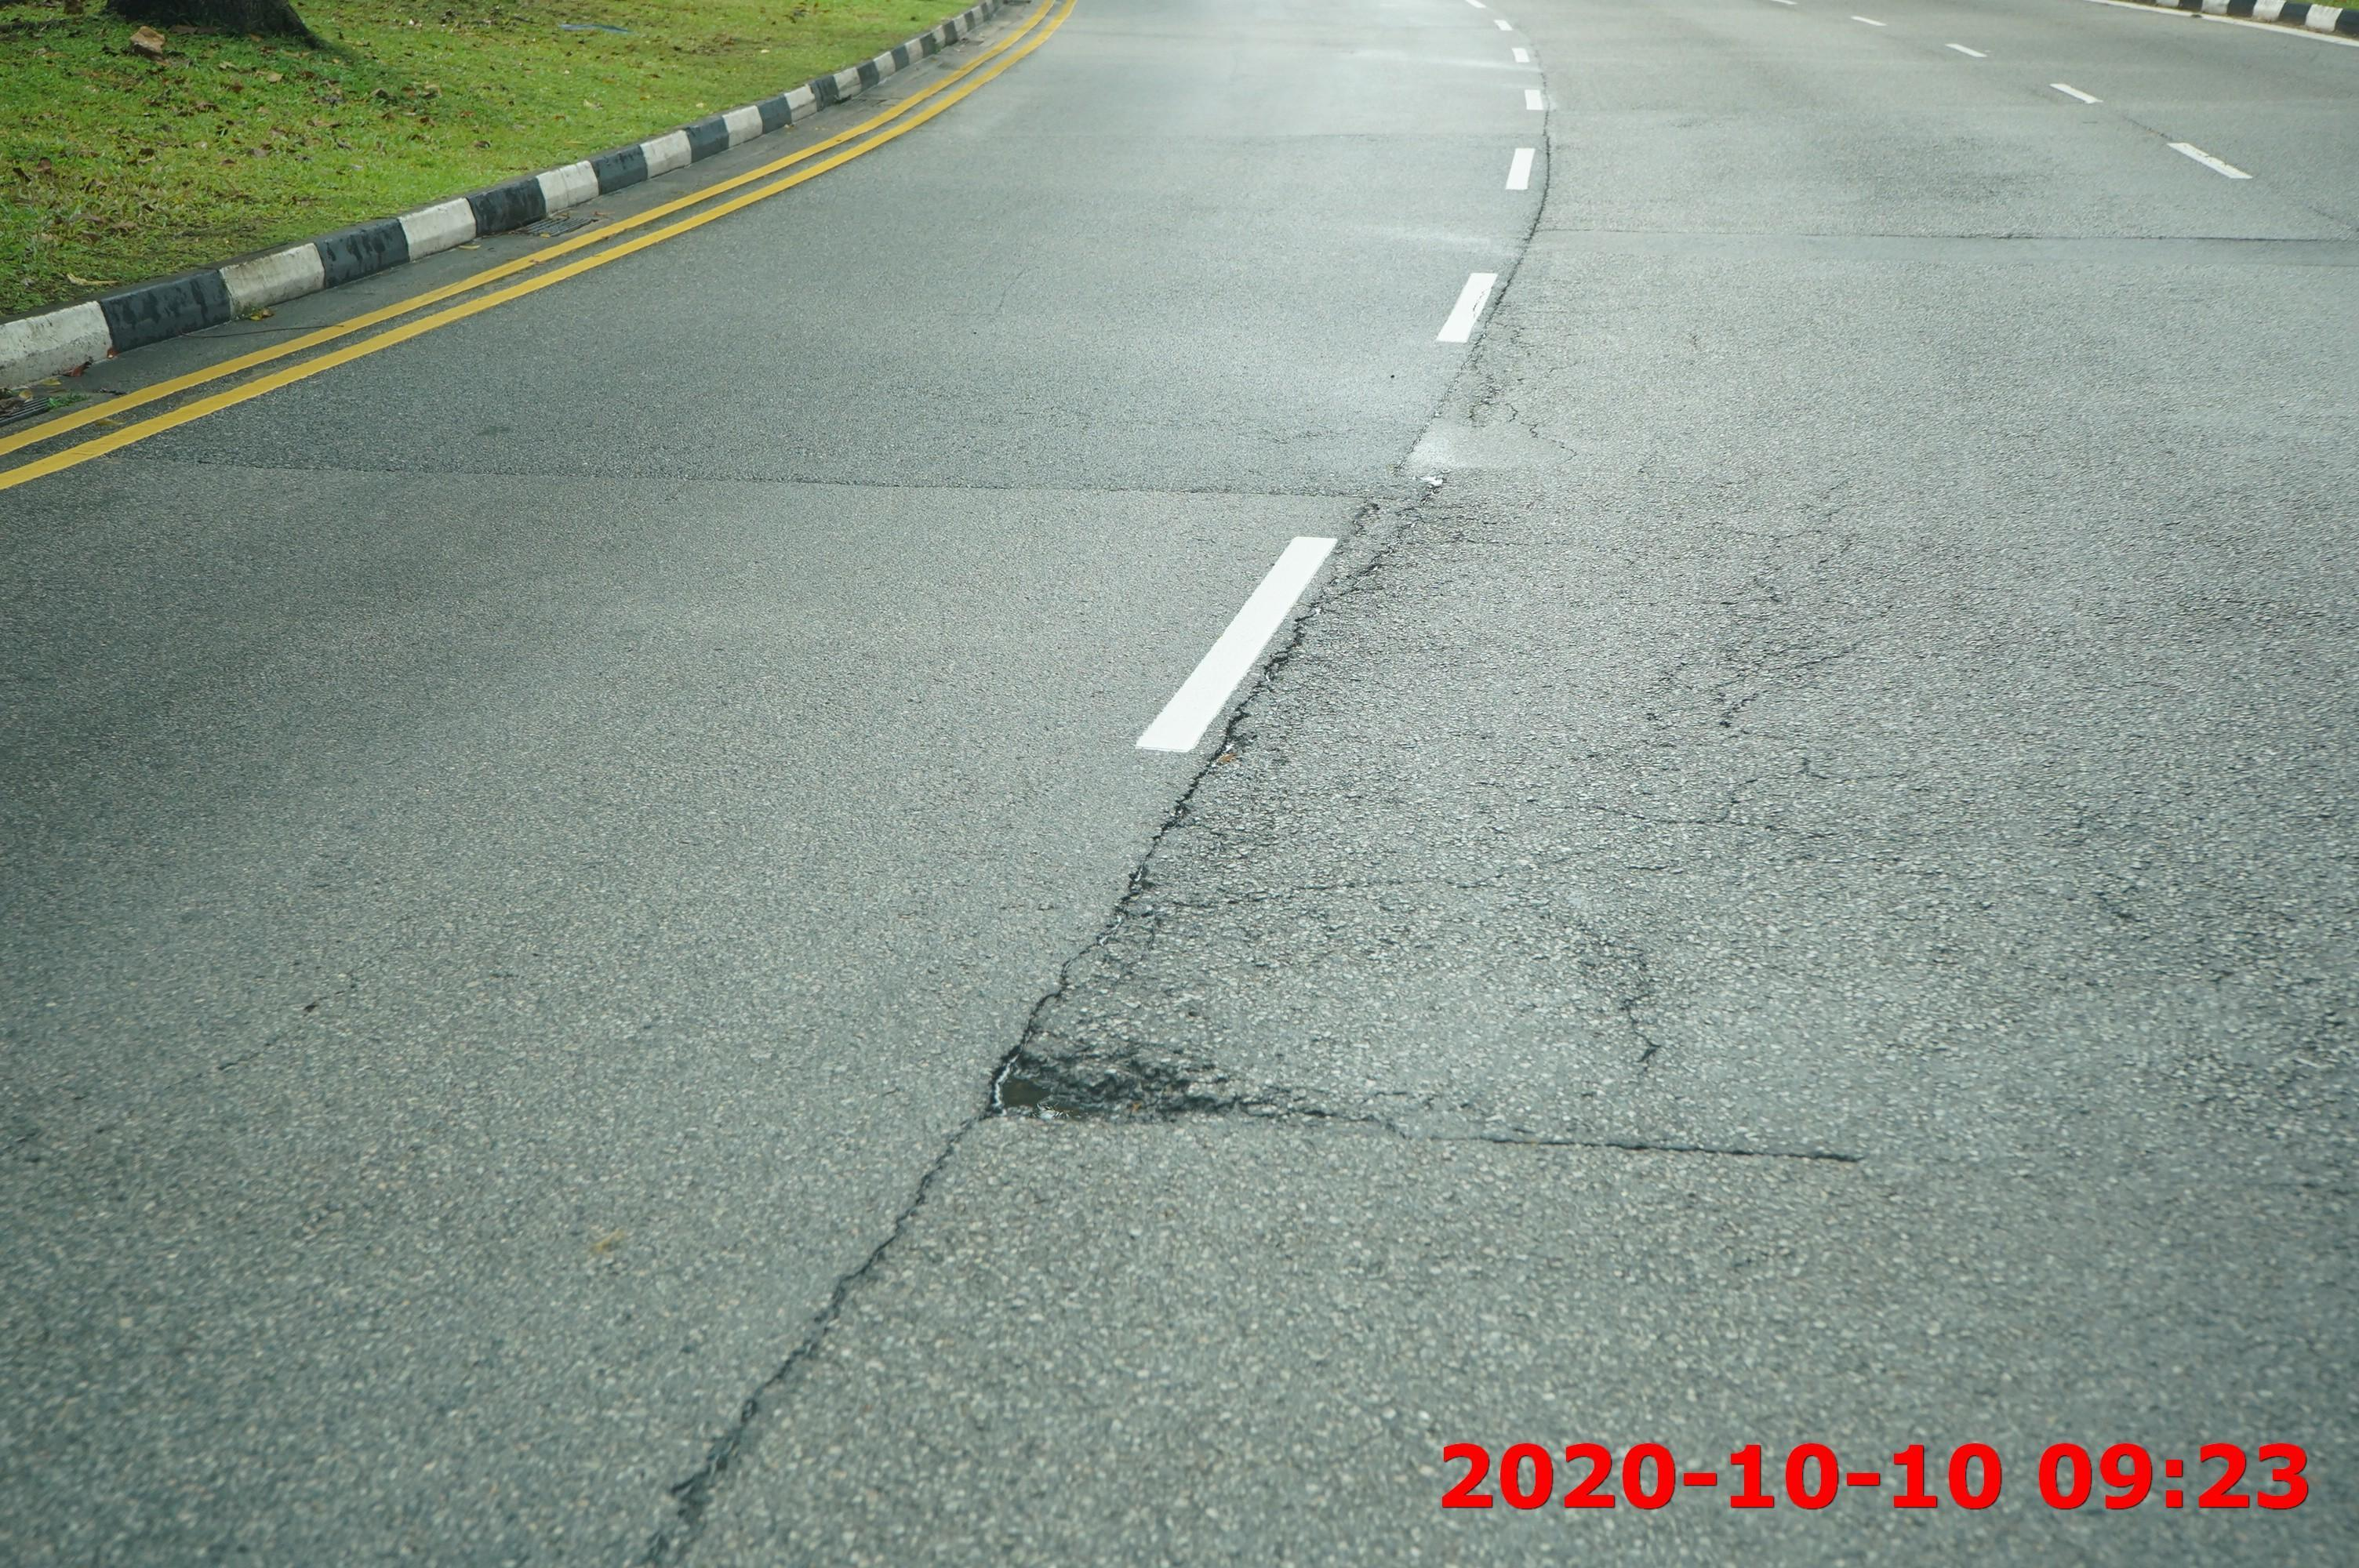peeling off premix: (968, 1025, 1255, 1130)
